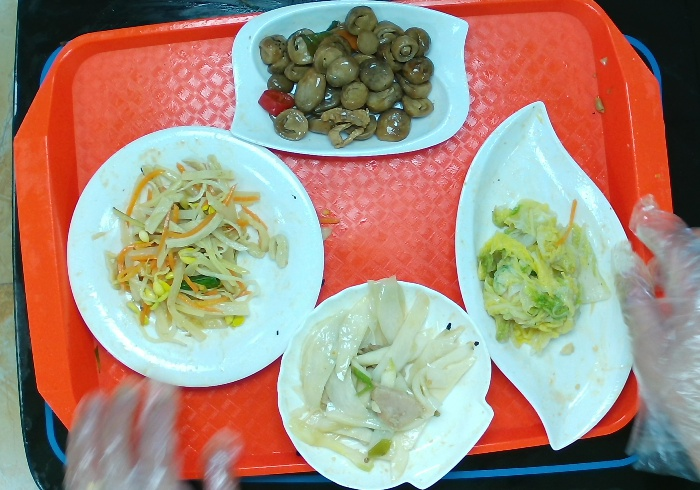RJxy-Bei_Ke_Wan: (275, 277, 495, 490)
RJxy-Jian_Jiao_Fang_Die: (227, 1, 470, 159)
RJxy-Jian_Jiao_Pan: (452, 98, 637, 451)
RJxy-Yuan_Pan: (64, 123, 327, 389)
